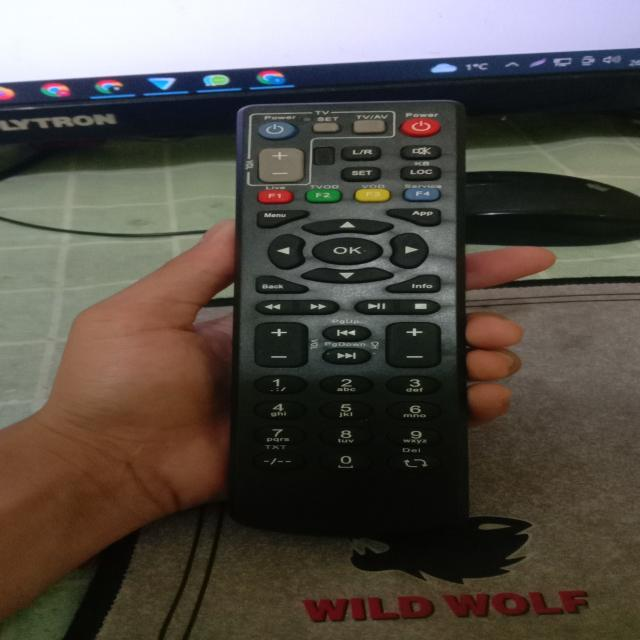remote: (223, 97, 470, 550)
